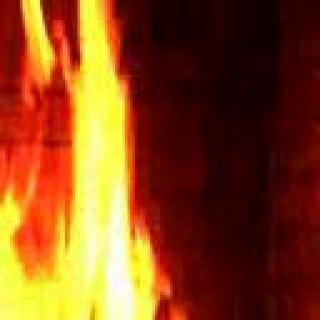fire: (0, 84, 214, 320)
